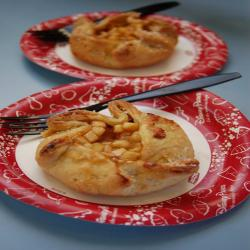apple_pie: (30, 99, 210, 208), (66, 9, 182, 74)
